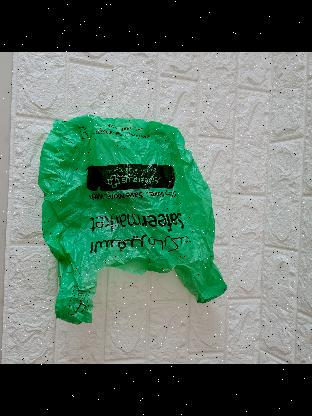Others: (37, 116, 226, 326)
